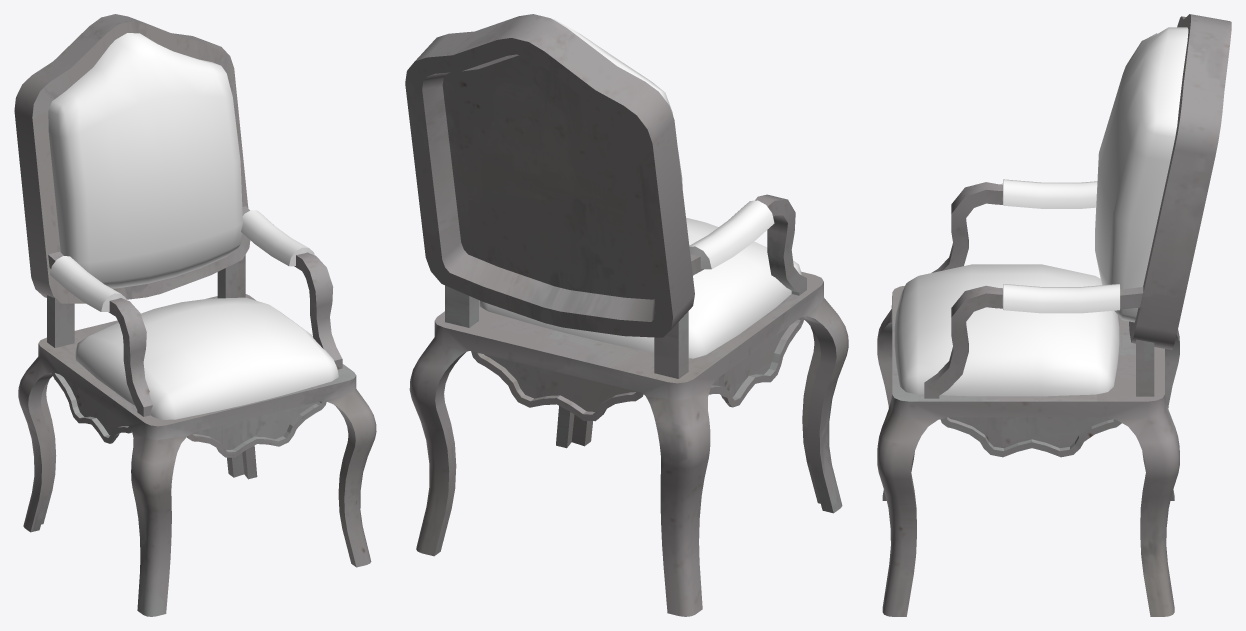
Rendered from SM_Chair.fbx.
3 renders of one model, left to right at view 1: azimuth 30°, elevation 25°; view 2: azimuth 150°, elevation 25°; view 3: azimuth 270°, elevation 25°, orthographic. The views are drawn at different scales.
Visible parts, largest first — view 1: Chair; view 2: Chair; view 3: Chair.
Part boxes in pixels (box(x1,y1,x2,y2)): Chair: box(14, 14, 376, 616); Chair: box(405, 14, 848, 616); Chair: box(877, 14, 1231, 616).
Size of the model in its own units: 80.95 by 154 by 92.66.
